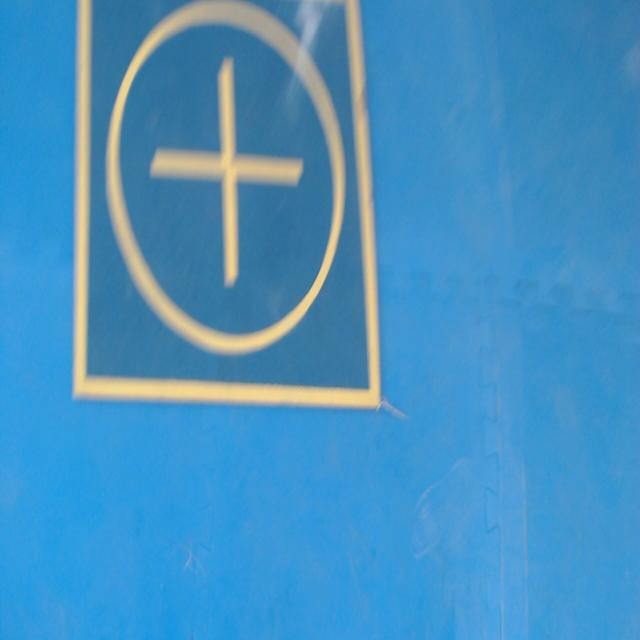base_pouso: (73, 0, 382, 406)
